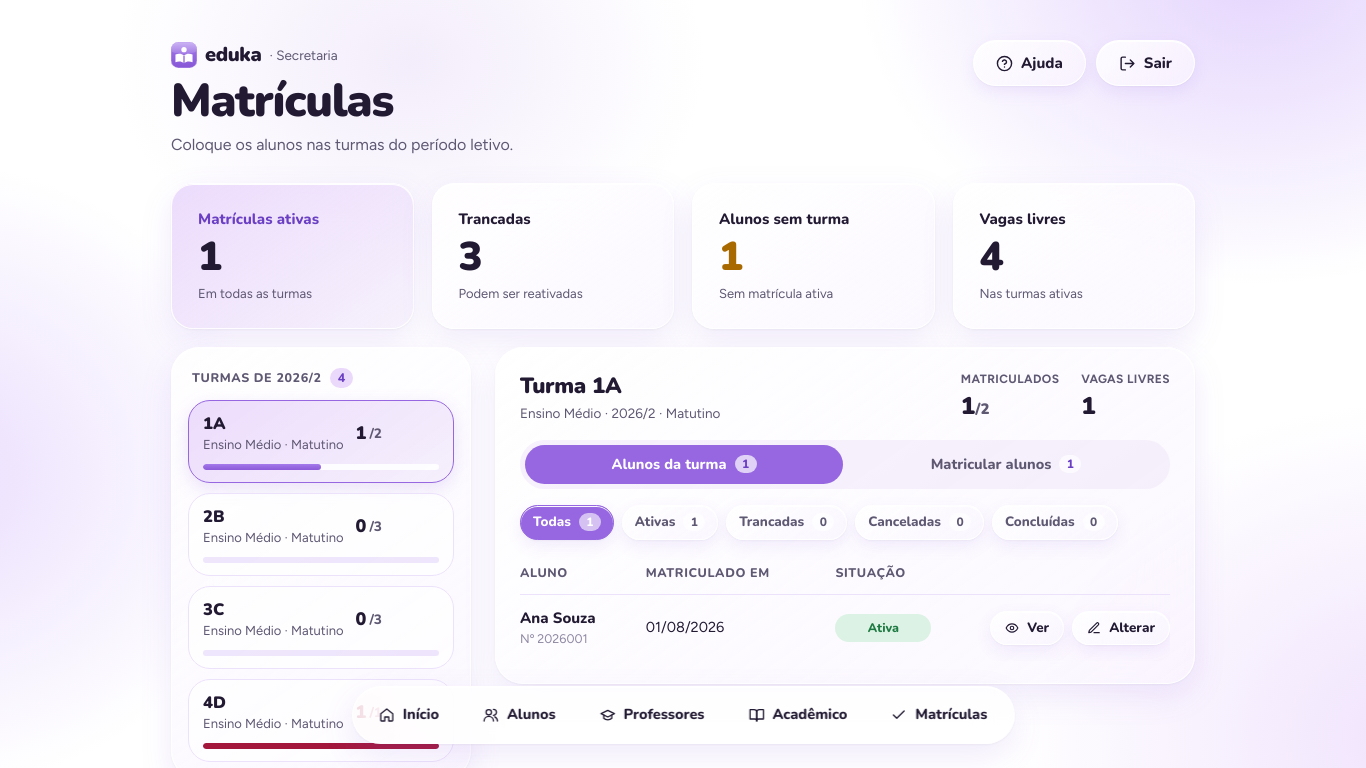
Test: Matriculas › transferir busca as turmas do aluno só quando escolhido e oferece as que têm vaga
Click the button "Alterar" at (1121, 628), box [1072,611,1170,645]
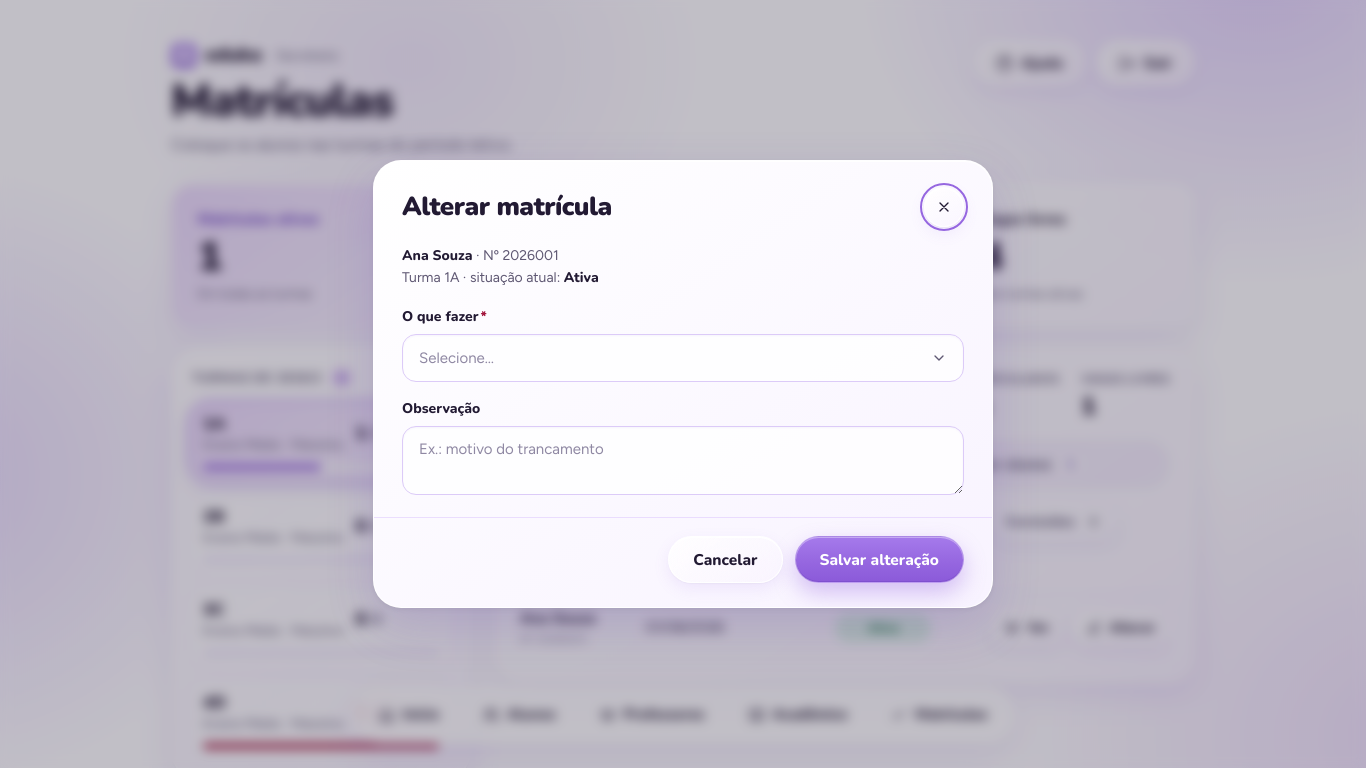
Click the dropdown named "o que fazer" at (456, 358), box [402,334,964,382]
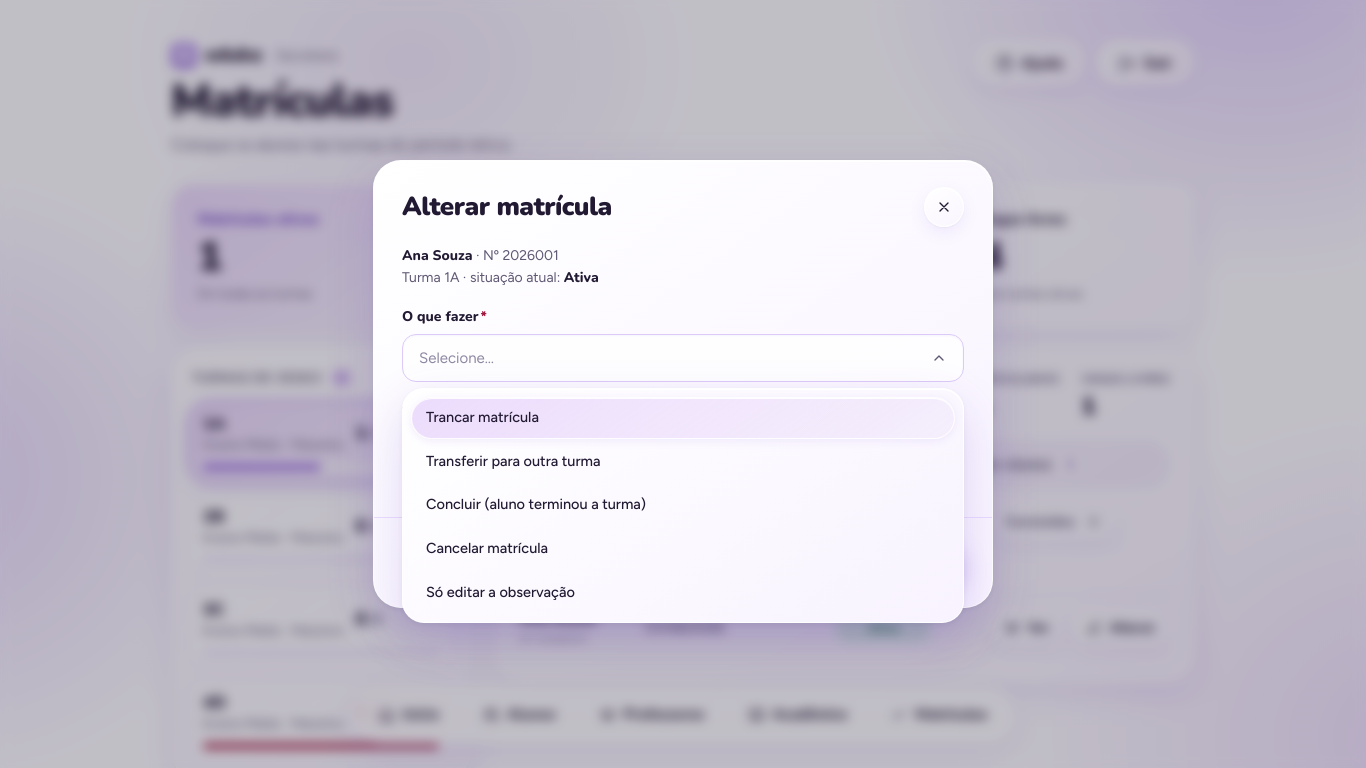
Click the option "Transferir para outra turma" at (513, 460), box [426,452,600,470]
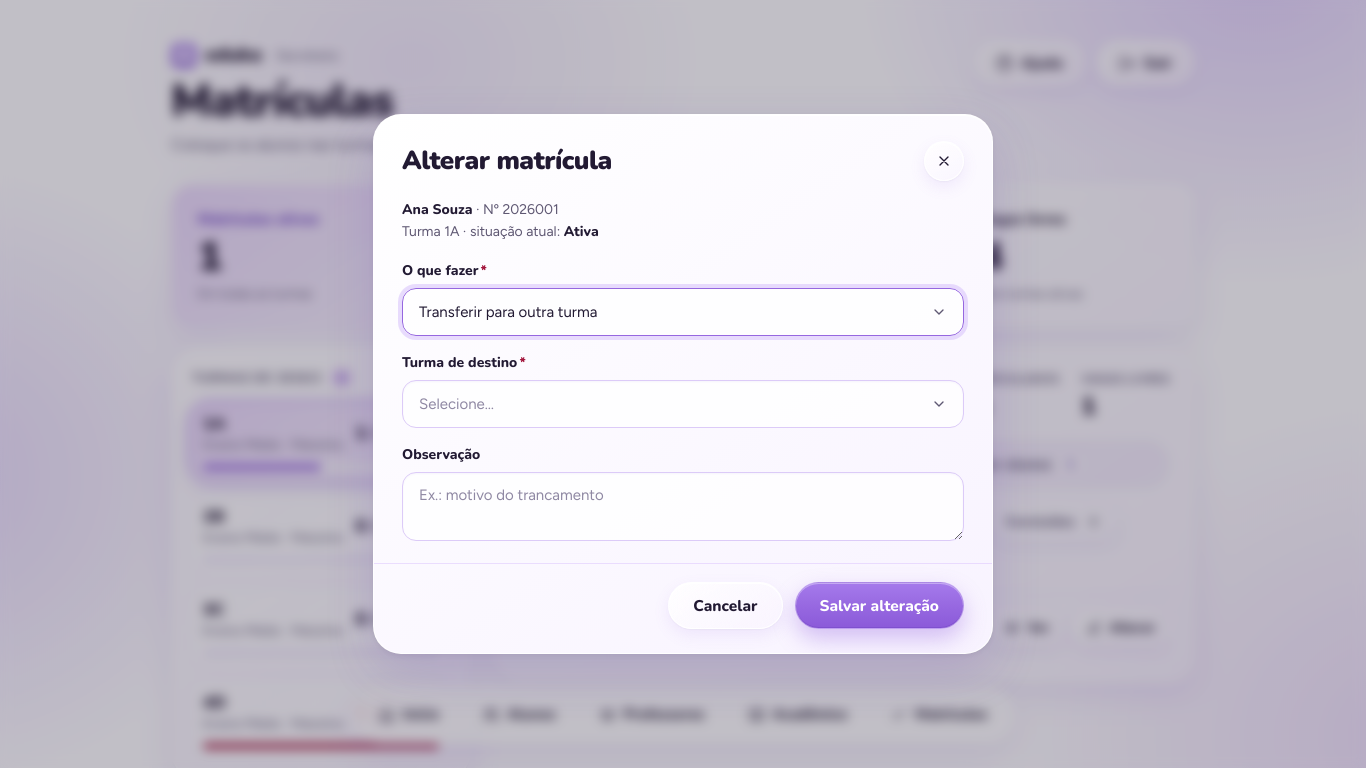
Click the dropdown named "turma de destino" at (456, 404), box [402,380,964,428]
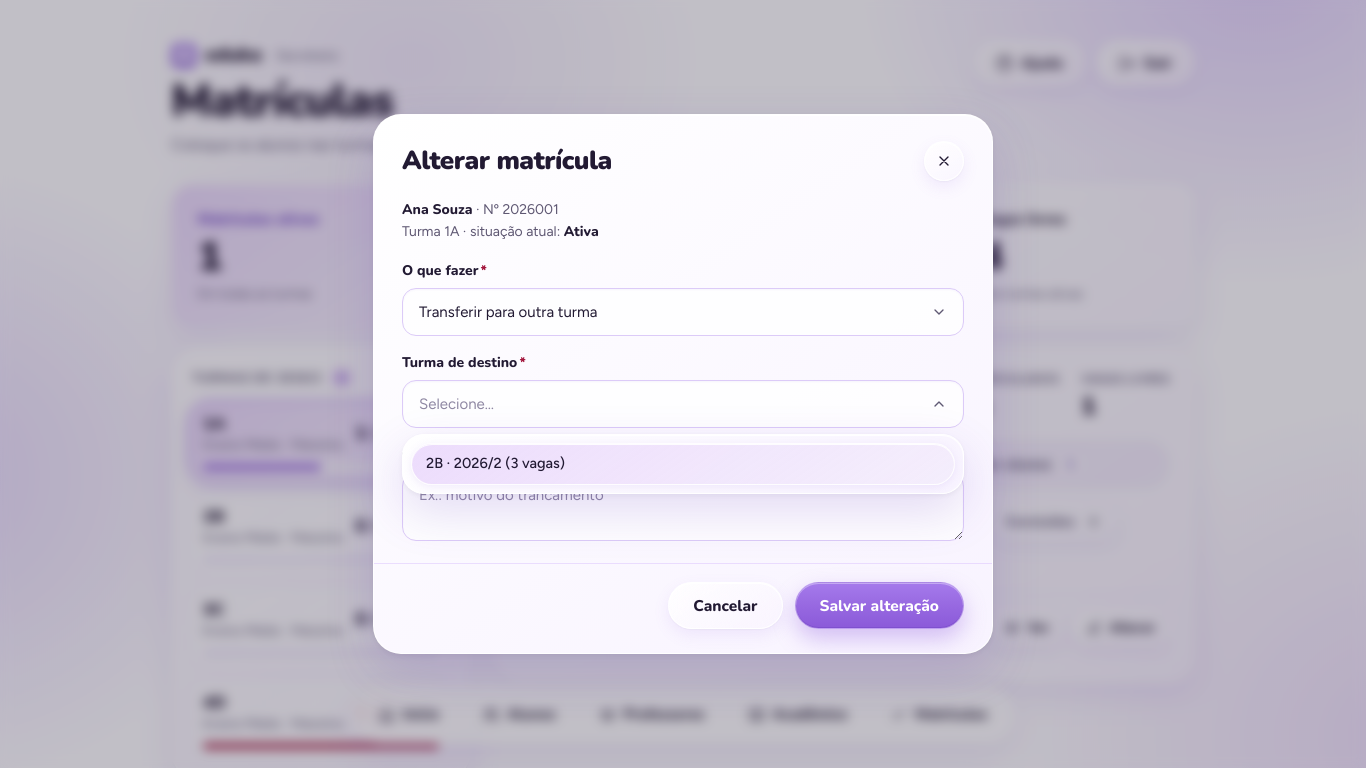
expect the options read "2B · 2026/2 (3 vagas)", in this order: met, box [411,443,955,485]
